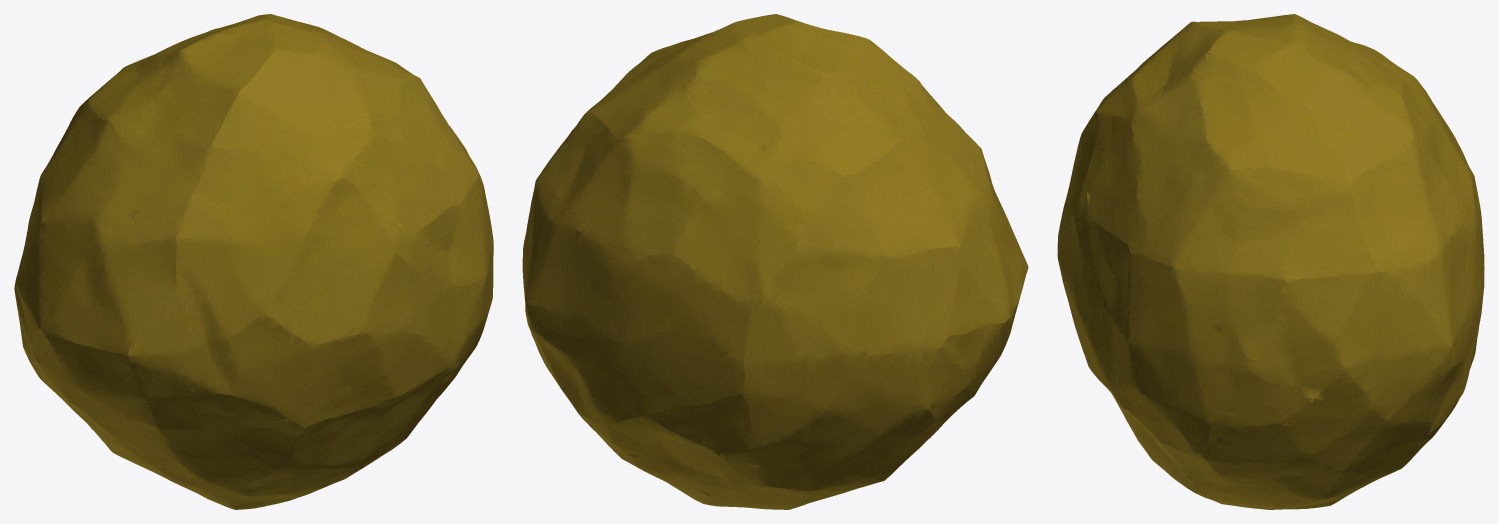
File: pill_night_sight.glb
3 renders of one model, left to right at view 1: azimuth 30°, elevation 25°; view 2: azimuth 150°, elevation 25°; view 3: azimuth 270°, elevation 25°, orthographic.
Visible parts, largest first — view 1: pill_heal; view 2: pill_heal; view 3: pill_heal.
Boxes of the visible parts, x1,y1,x2,y2 form: pill_heal: [14, 14, 493, 509]; pill_heal: [522, 14, 1028, 509]; pill_heal: [1057, 14, 1484, 509].
Size of the model in its own units: 0.1194 by 0.12 by 0.0998.
1 material, 1 textured.
